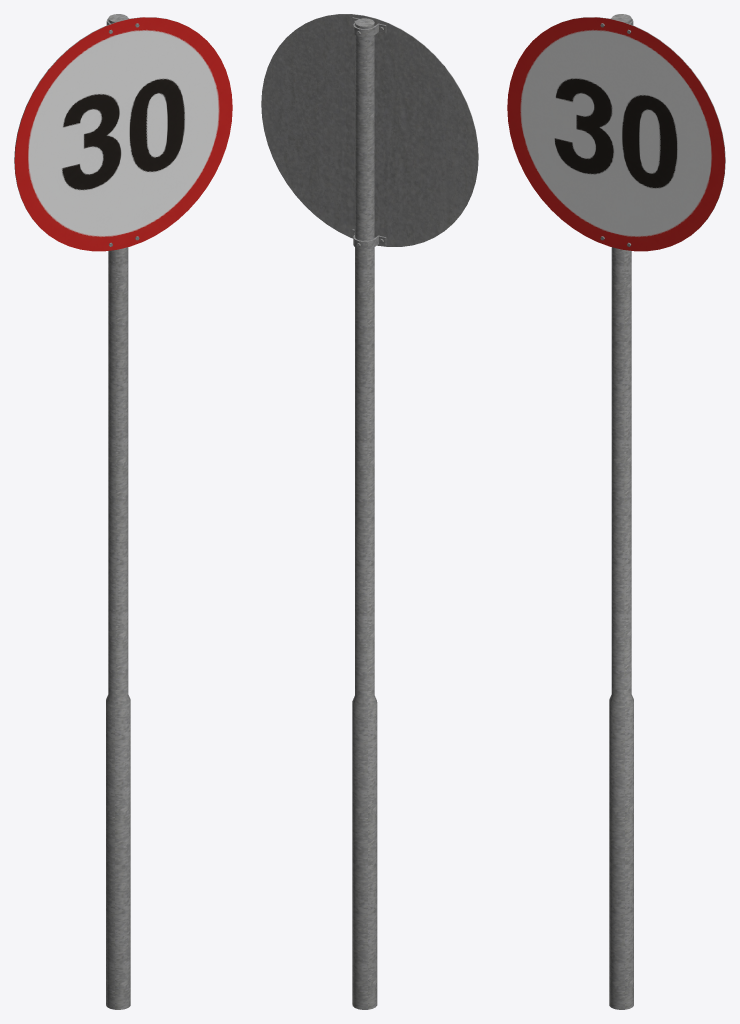
The model's file is Driving_Sim_Model_SpeedSign30.fbx.
3 views of the same model, side by side, from view 1: azimuth 30°, elevation 25°; view 2: azimuth 150°, elevation 25°; view 3: azimuth 330°, elevation 25° (orthographic).
Parts seen in each view (by area): view 1: sign-030, mast-030; view 2: sign-030, mast-030; view 3: sign-030, mast-030.
Boxes of the visible parts, x1,y1,x2,y2 form: sign-030: (14, 17, 232, 251); mast-030: (106, 14, 130, 1009); sign-030: (261, 14, 478, 246); mast-030: (352, 18, 377, 1009); sign-030: (507, 17, 725, 251); mast-030: (609, 14, 633, 1009).
Size of the model in its own units: 0.6 by 2.6 by 0.0619.
